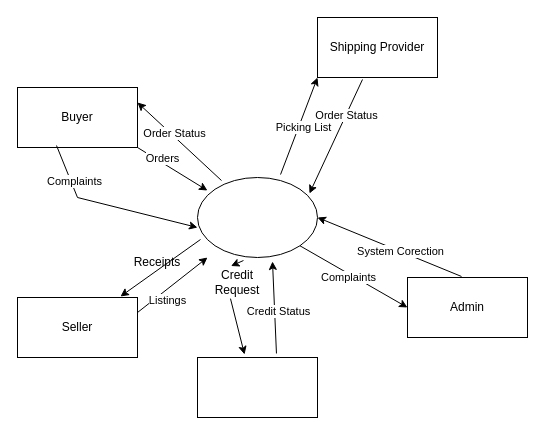
Some shapes in this 545 by 435 pixel diagram are drawn without their labels. Here are the shapes that lost their labels. From the top down, the centre of each, then its label:
At point (257, 217): "Shoplink Marketplace".
At point (257, 387): "Payment Gateway".
